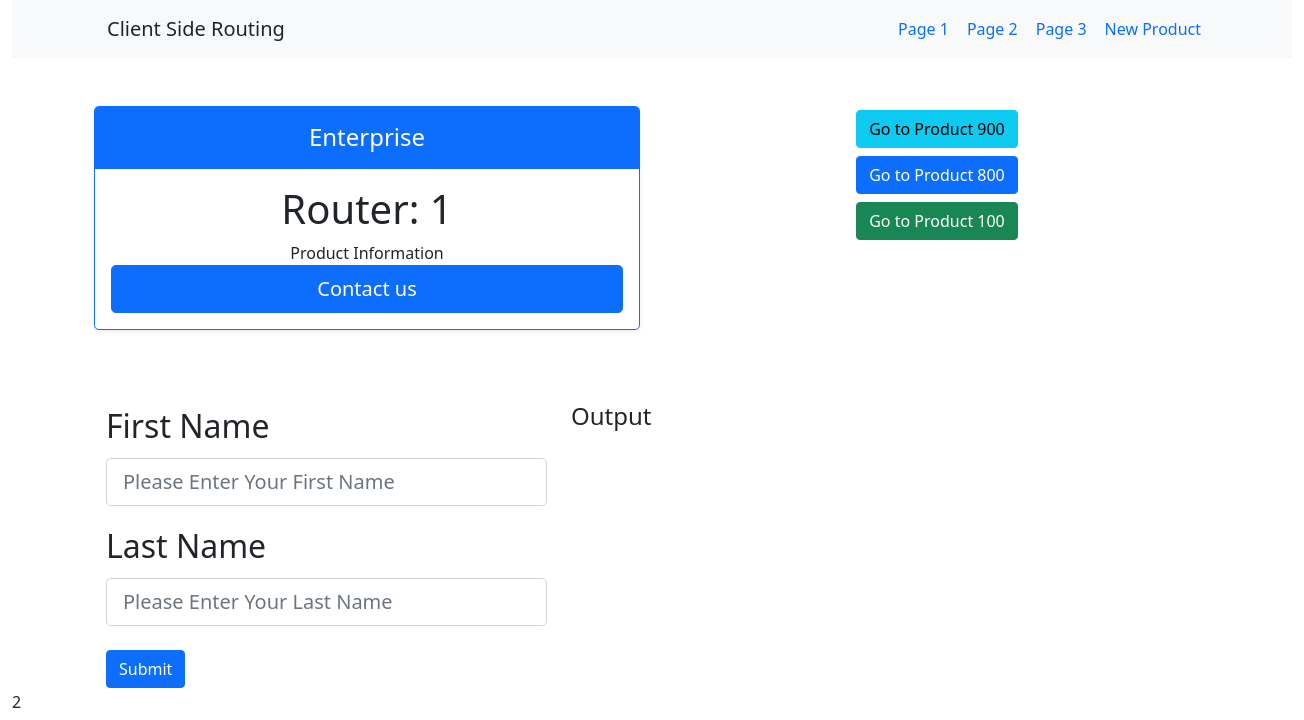
Test: React router useParamsHook › Go to Product 900 should navigate to url product/900 and display the number on the screen
This screenshot has width=1304, height=720.
Click the button "Go to Product 900".
click(937, 129)  # box left=856, top=110, right=1018, bottom=148
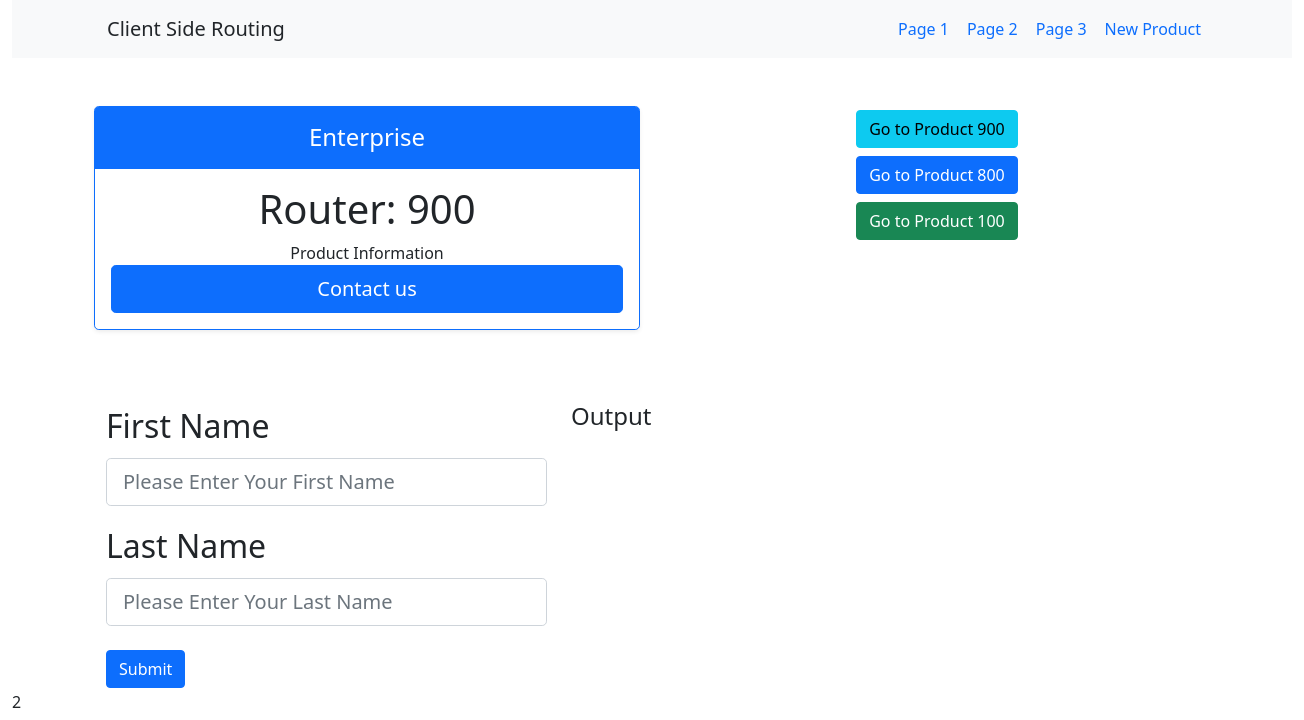
Result: the heading "Router: 900" is shown at left=258, top=181, right=476, bottom=236
